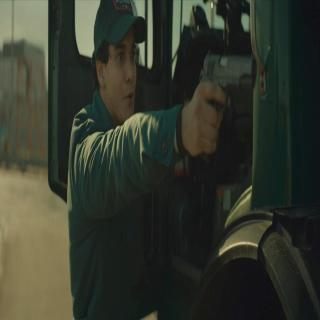gun: (198, 38, 256, 168)
